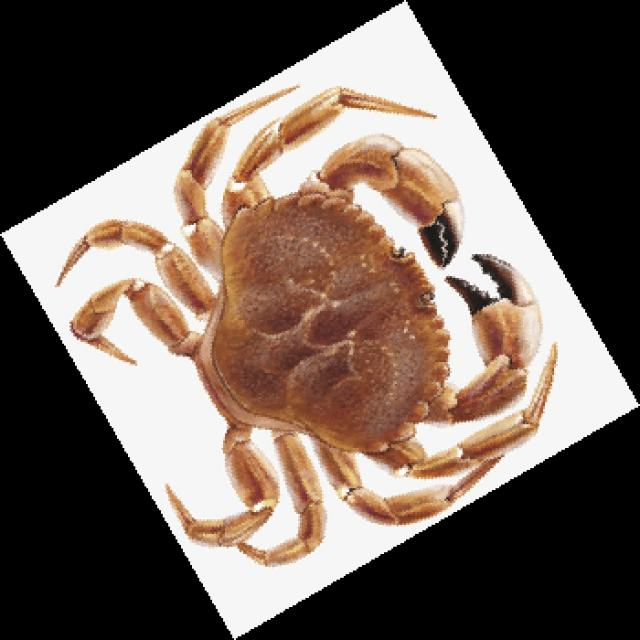Native Jonah crab: (57, 88, 556, 565)
